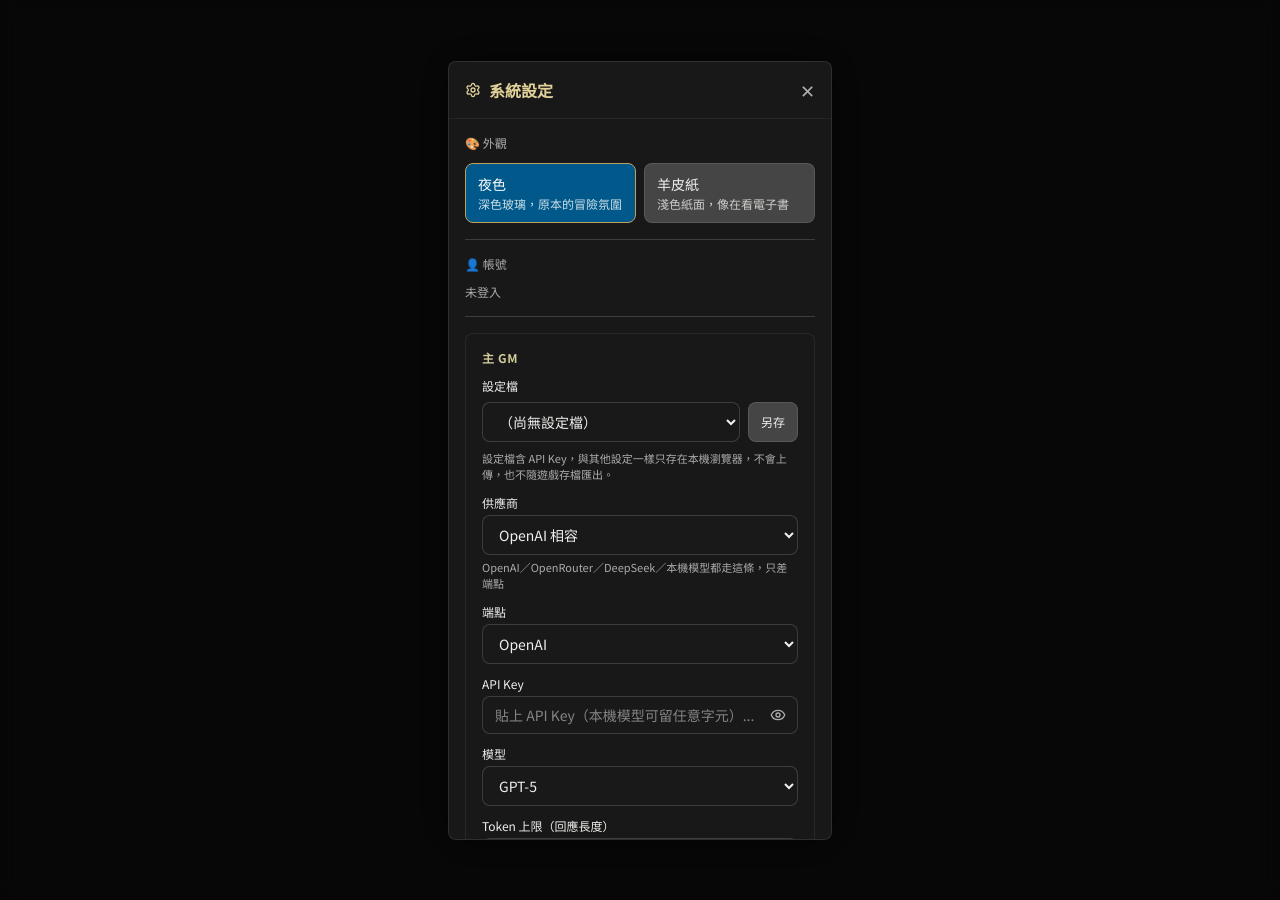
SettingsModal — 供應商切換 › 自訂端點會開出一個自由輸入框
Step 1. Select "自訂端點⋯" in the dropdown named "端點" → (640, 644), box [482, 624, 798, 664]
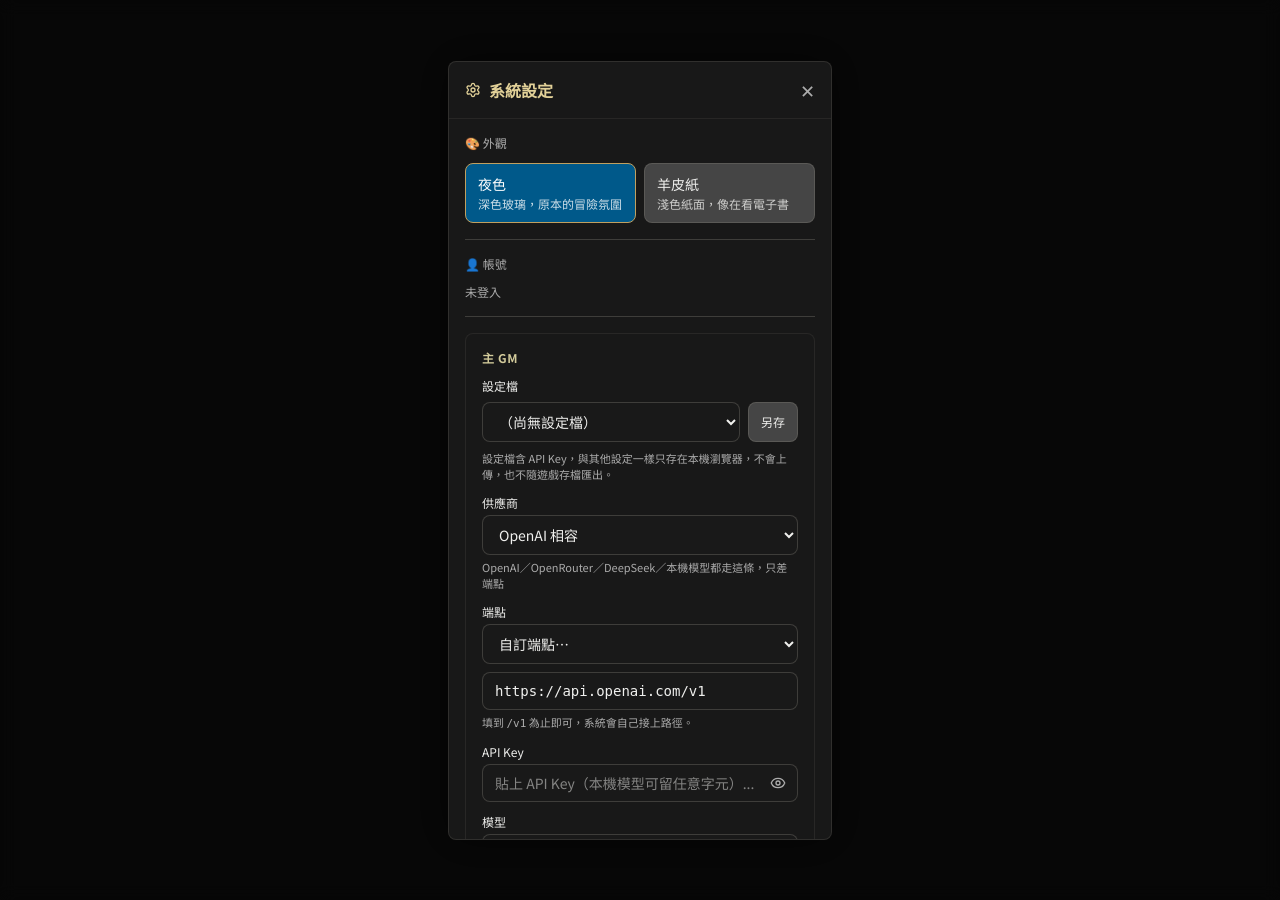
Expected: the field named "自訂端點" is shown, [482, 672, 798, 710]
